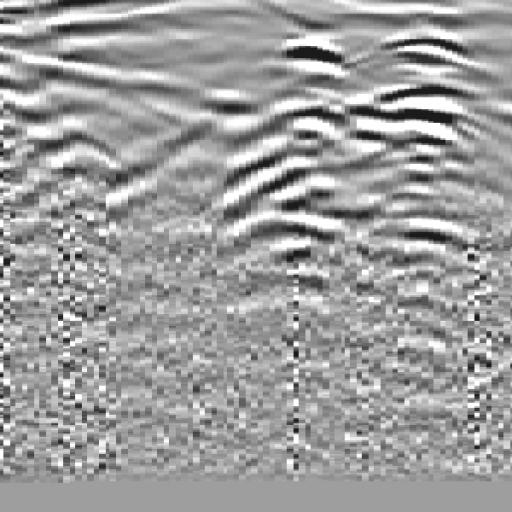metalic: (336, 8, 501, 313)
